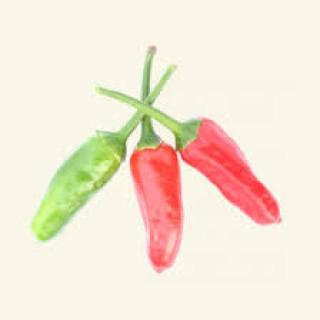Cabai Hijau: (31, 125, 131, 241)
Cabai Merah: (179, 119, 281, 229), (129, 145, 185, 275)
